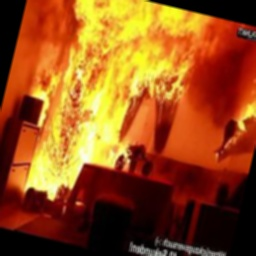fire: (1, 0, 256, 206)
